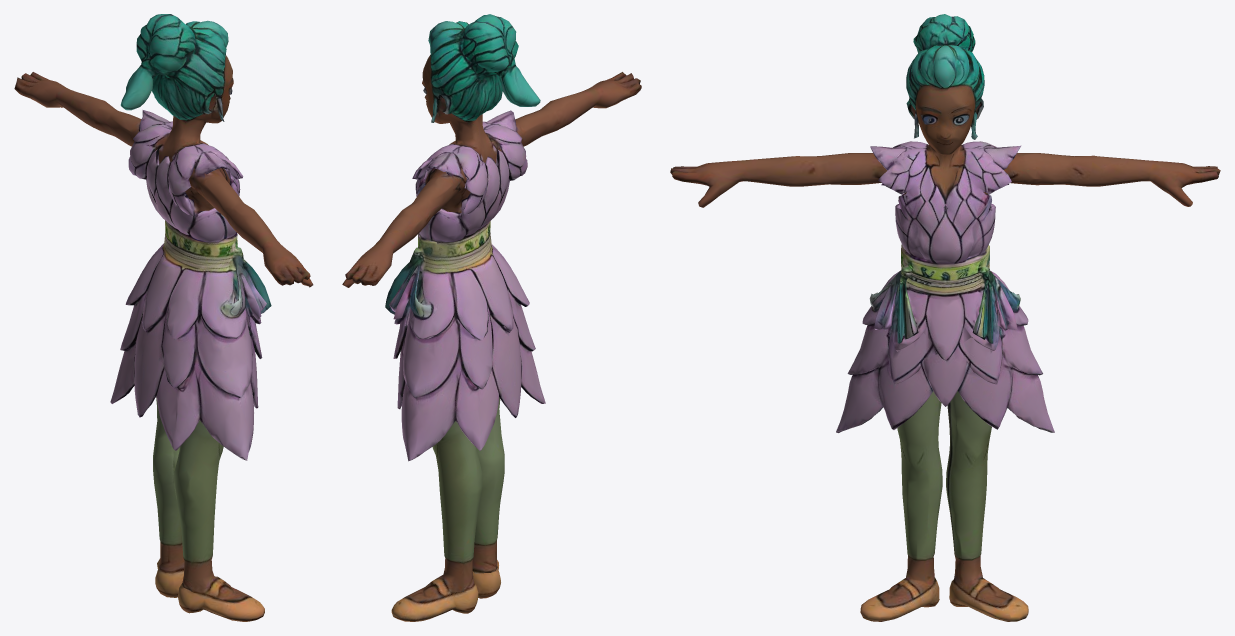
Rendered from n2_dancer.646d3459.glb.
3 renders of one model, left to right at view 1: azimuth 30°, elevation 25°; view 2: azimuth 150°, elevation 25°; view 3: azimuth 270°, elevation 25°, orthographic.
Visible parts, largest first — view 1: tripo_node_e14cfbd8-7841-45f2-b9e3-1d0a02530cb3; view 2: tripo_node_e14cfbd8-7841-45f2-b9e3-1d0a02530cb3; view 3: tripo_node_e14cfbd8-7841-45f2-b9e3-1d0a02530cb3.
Part boxes in pixels (bbox=[...]): tripo_node_e14cfbd8-7841-45f2-b9e3-1d0a02530cb3: bbox=[14, 14, 313, 621]; tripo_node_e14cfbd8-7841-45f2-b9e3-1d0a02530cb3: bbox=[342, 14, 641, 621]; tripo_node_e14cfbd8-7841-45f2-b9e3-1d0a02530cb3: bbox=[670, 14, 1220, 621].
Size of the model in its own units: 0.2301 by 1 by 0.856.
1 material, 1 textured.
